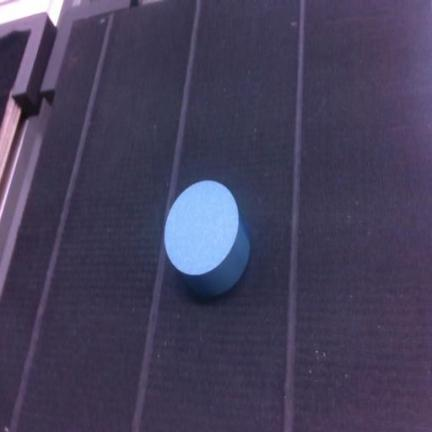cylinder: (164, 181, 250, 296)
